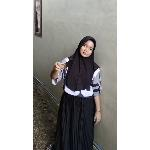Pisau: (55, 56, 79, 70)
